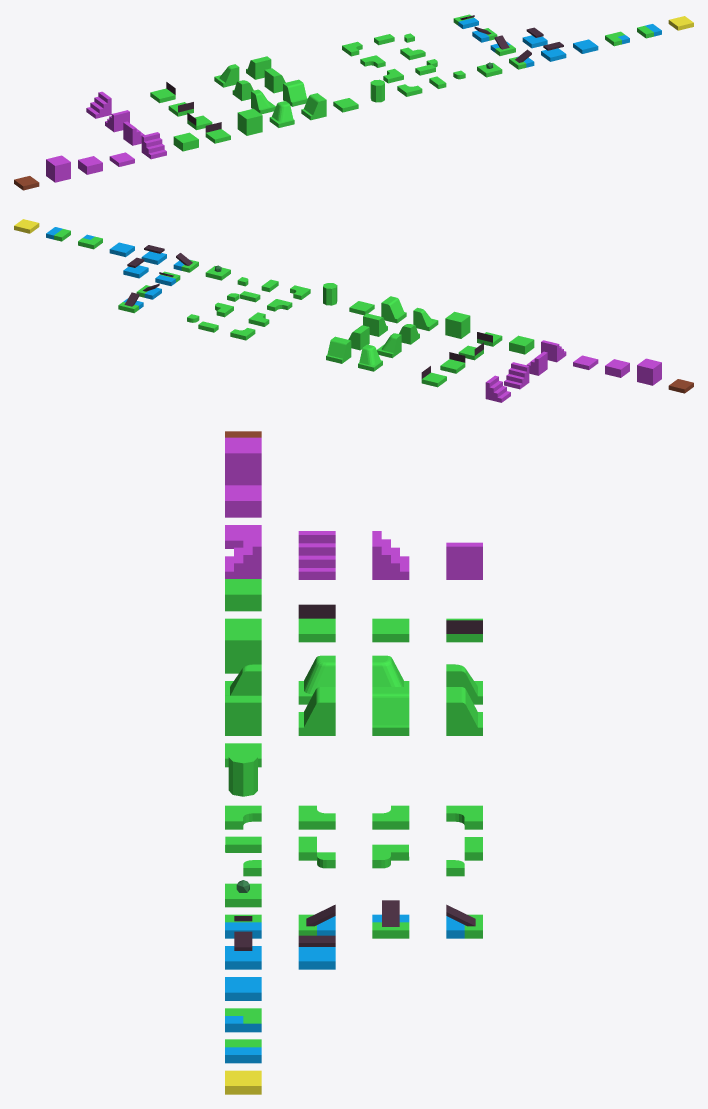
The model's file is Voxel.glb.
3 views of the same model, one above another, from view 1: azimuth 30°, elevation 25°; view 2: azimuth 150°, elevation 25°; view 3: azimuth 270°, elevation 25° (orthographic). The views are drawn at different scales.
Visible parts, largest first — view 1: c_GrassFull, c_RockFull, c_Stair, c_GrassHalfElevated_R90, c_GrassHalfElevated, c_Stair_R270, c_GrassCornerElevated, c_GrassHalfElevated_R270, c_GrassCornerElevated_R90, c_GrassCornerElevated_R270, c_GrassHalfElevated_R180, c_GrassBarricade (+12 smaller); view 2: c_GrassFull, c_RockFull, c_GrassHalfElevated_R270, c_Stair_R180, c_GrassHalfElevated, c_Stair_R270, c_GrassCornerElevated_R270, c_GrassCornerElevated_R180, c_GrassHalfElevated_R90, c_GrassCornerElevated, c_GrassHalfElevated_R180, c_GrassBarricade_R180 (+11 smaller); view 3: c_Stair_R90, c_GrassHalfElevated_R180, c_RockFull, c_GrassFull, c_GrassHalfElevated_R90, c_GrassHalfElevated_R270, c_GrassHalfElevated, c_GrassBarricade_R90, c_Stair_R270, c_Stair_R180, c_Stair, c_WaterBridge_R90 (+7 smaller).
Part boxes in pixels (x1=…): c_GrassFull: x1=237, y1=108, x2=262, y2=135; c_RockFull: x1=46, y1=155, x2=70, y2=182; c_Stair: x1=141, y1=132, x2=166, y2=159; c_GrassHalfElevated_R90: x1=283, y1=79, x2=307, y2=106; c_GrassHalfElevated: x1=301, y1=93, x2=326, y2=120; c_Stair_R270: x1=86, y1=91, x2=111, y2=118; c_GrassCornerElevated: x1=269, y1=101, x2=294, y2=127; c_GrassHalfElevated_R270: x1=246, y1=56, x2=271, y2=79; c_GrassCornerElevated_R90: x1=251, y1=89, x2=275, y2=114; c_GrassCornerElevated_R270: x1=214, y1=64, x2=239, y2=87; c_GrassHalfElevated_R180: x1=264, y1=68, x2=285, y2=93; c_GrassBarricade: x1=205, y1=122, x2=230, y2=143; c_GrassFull: x1=445, y1=311, x2=470, y2=338; c_RockFull: x1=637, y1=358, x2=661, y2=385; c_GrassHalfElevated_R270: x1=326, y1=336, x2=351, y2=363; c_Stair_R180: x1=504, y1=362, x2=529, y2=389; c_GrassHalfElevated: x1=381, y1=296, x2=406, y2=323; c_Stair_R270: x1=485, y1=375, x2=510, y2=402; c_GrassCornerElevated_R270: x1=358, y1=344, x2=382, y2=371; c_GrassCornerElevated_R180: x1=377, y1=333, x2=401, y2=358; c_GrassHalfElevated_R90: x1=363, y1=313, x2=387, y2=336; c_GrassCornerElevated: x1=413, y1=307, x2=438, y2=330; c_GrassHalfElevated_R180: x1=348, y1=325, x2=369, y2=350; c_GrassBarricade_R180: x1=440, y1=352, x2=465, y2=373; c_Stair_R90: x1=298, y1=531, x2=335, y2=579; c_GrassHalfElevated_R180: x1=372, y1=687, x2=409, y2=735; c_RockFull: x1=225, y1=437, x2=261, y2=485; c_GrassFull: x1=225, y1=624, x2=261, y2=673; c_GrassHalfElevated_R90: x1=298, y1=687, x2=335, y2=735; c_GrassHalfElevated_R270: x1=446, y1=687, x2=482, y2=735; c_GrassHalfElevated: x1=225, y1=695, x2=261, y2=735; c_GrassBarricade_R90: x1=298, y1=604, x2=335, y2=642; c_Stair_R270: x1=446, y1=542, x2=482, y2=579; c_Stair_R180: x1=372, y1=531, x2=409, y2=579; c_Stair: x1=225, y1=531, x2=261, y2=578; c_WaterBridge_R90: x1=298, y1=935, x2=335, y2=969.
Size of the model in its own units: 42 by 1 by 7.
